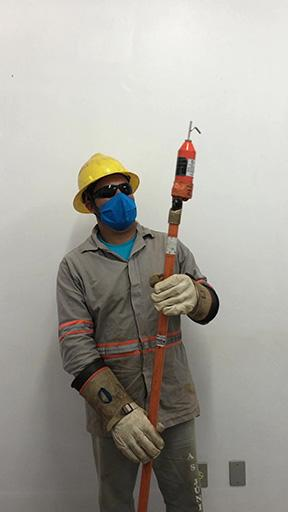Detector_Tensao_Contato: (170, 120, 202, 202)
Vara_Manobra: (137, 202, 184, 512)
